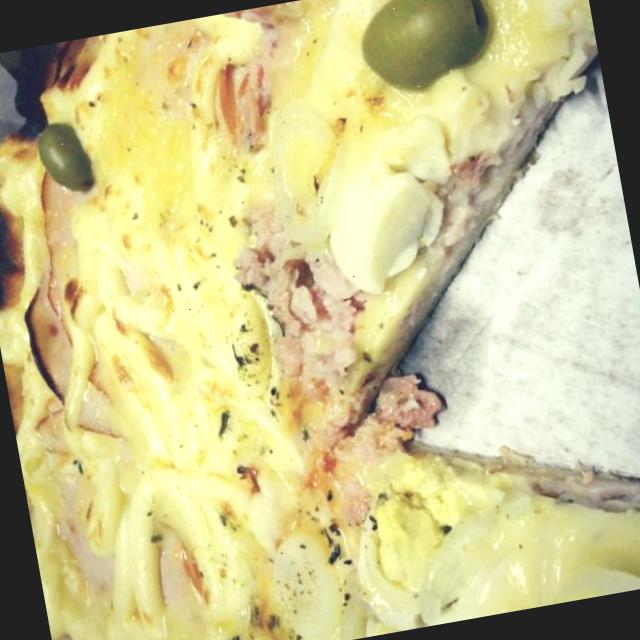Olive: (349, 0, 502, 101), (24, 110, 100, 204)
cheese: (82, 230, 304, 624), (302, 100, 444, 300)
pizza: (0, 0, 640, 640)
